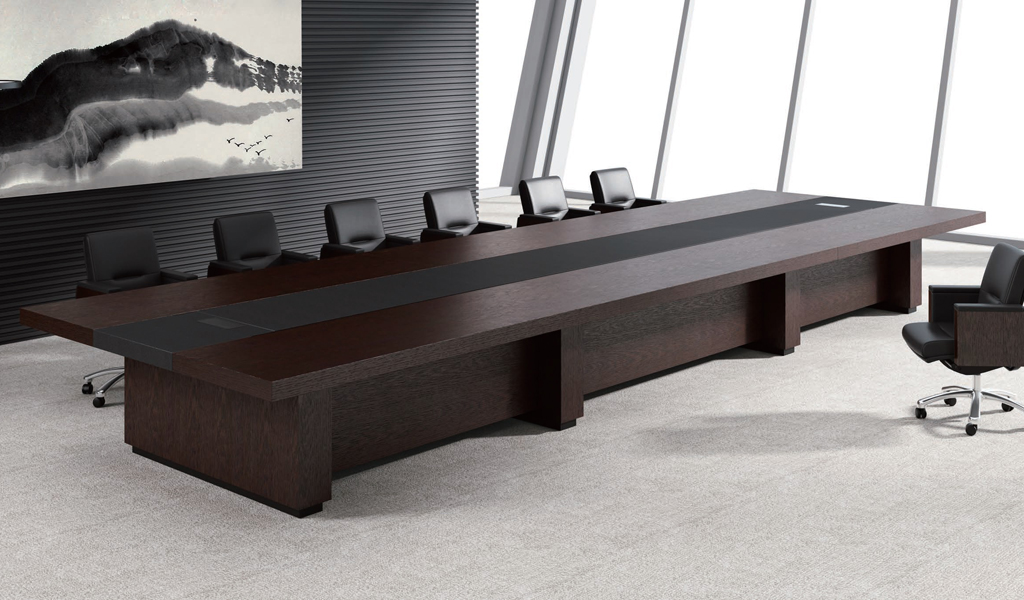conference_table: (22, 189, 987, 520)
